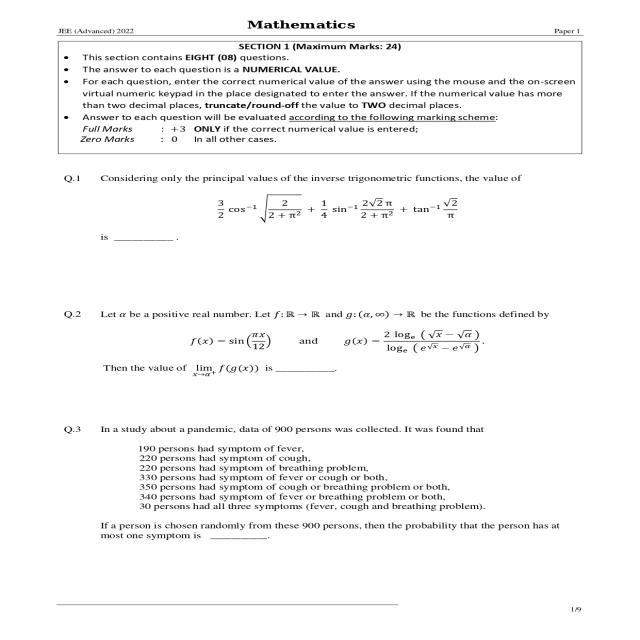Instruction: (51, 35, 599, 155)
Question_Answer_Block: (51, 418, 599, 546), (51, 157, 599, 269), (51, 292, 599, 395)
Question_Block: (51, 418, 599, 546), (51, 158, 599, 266), (51, 292, 599, 395)
Question_Paper_Area: (51, 34, 599, 552)
